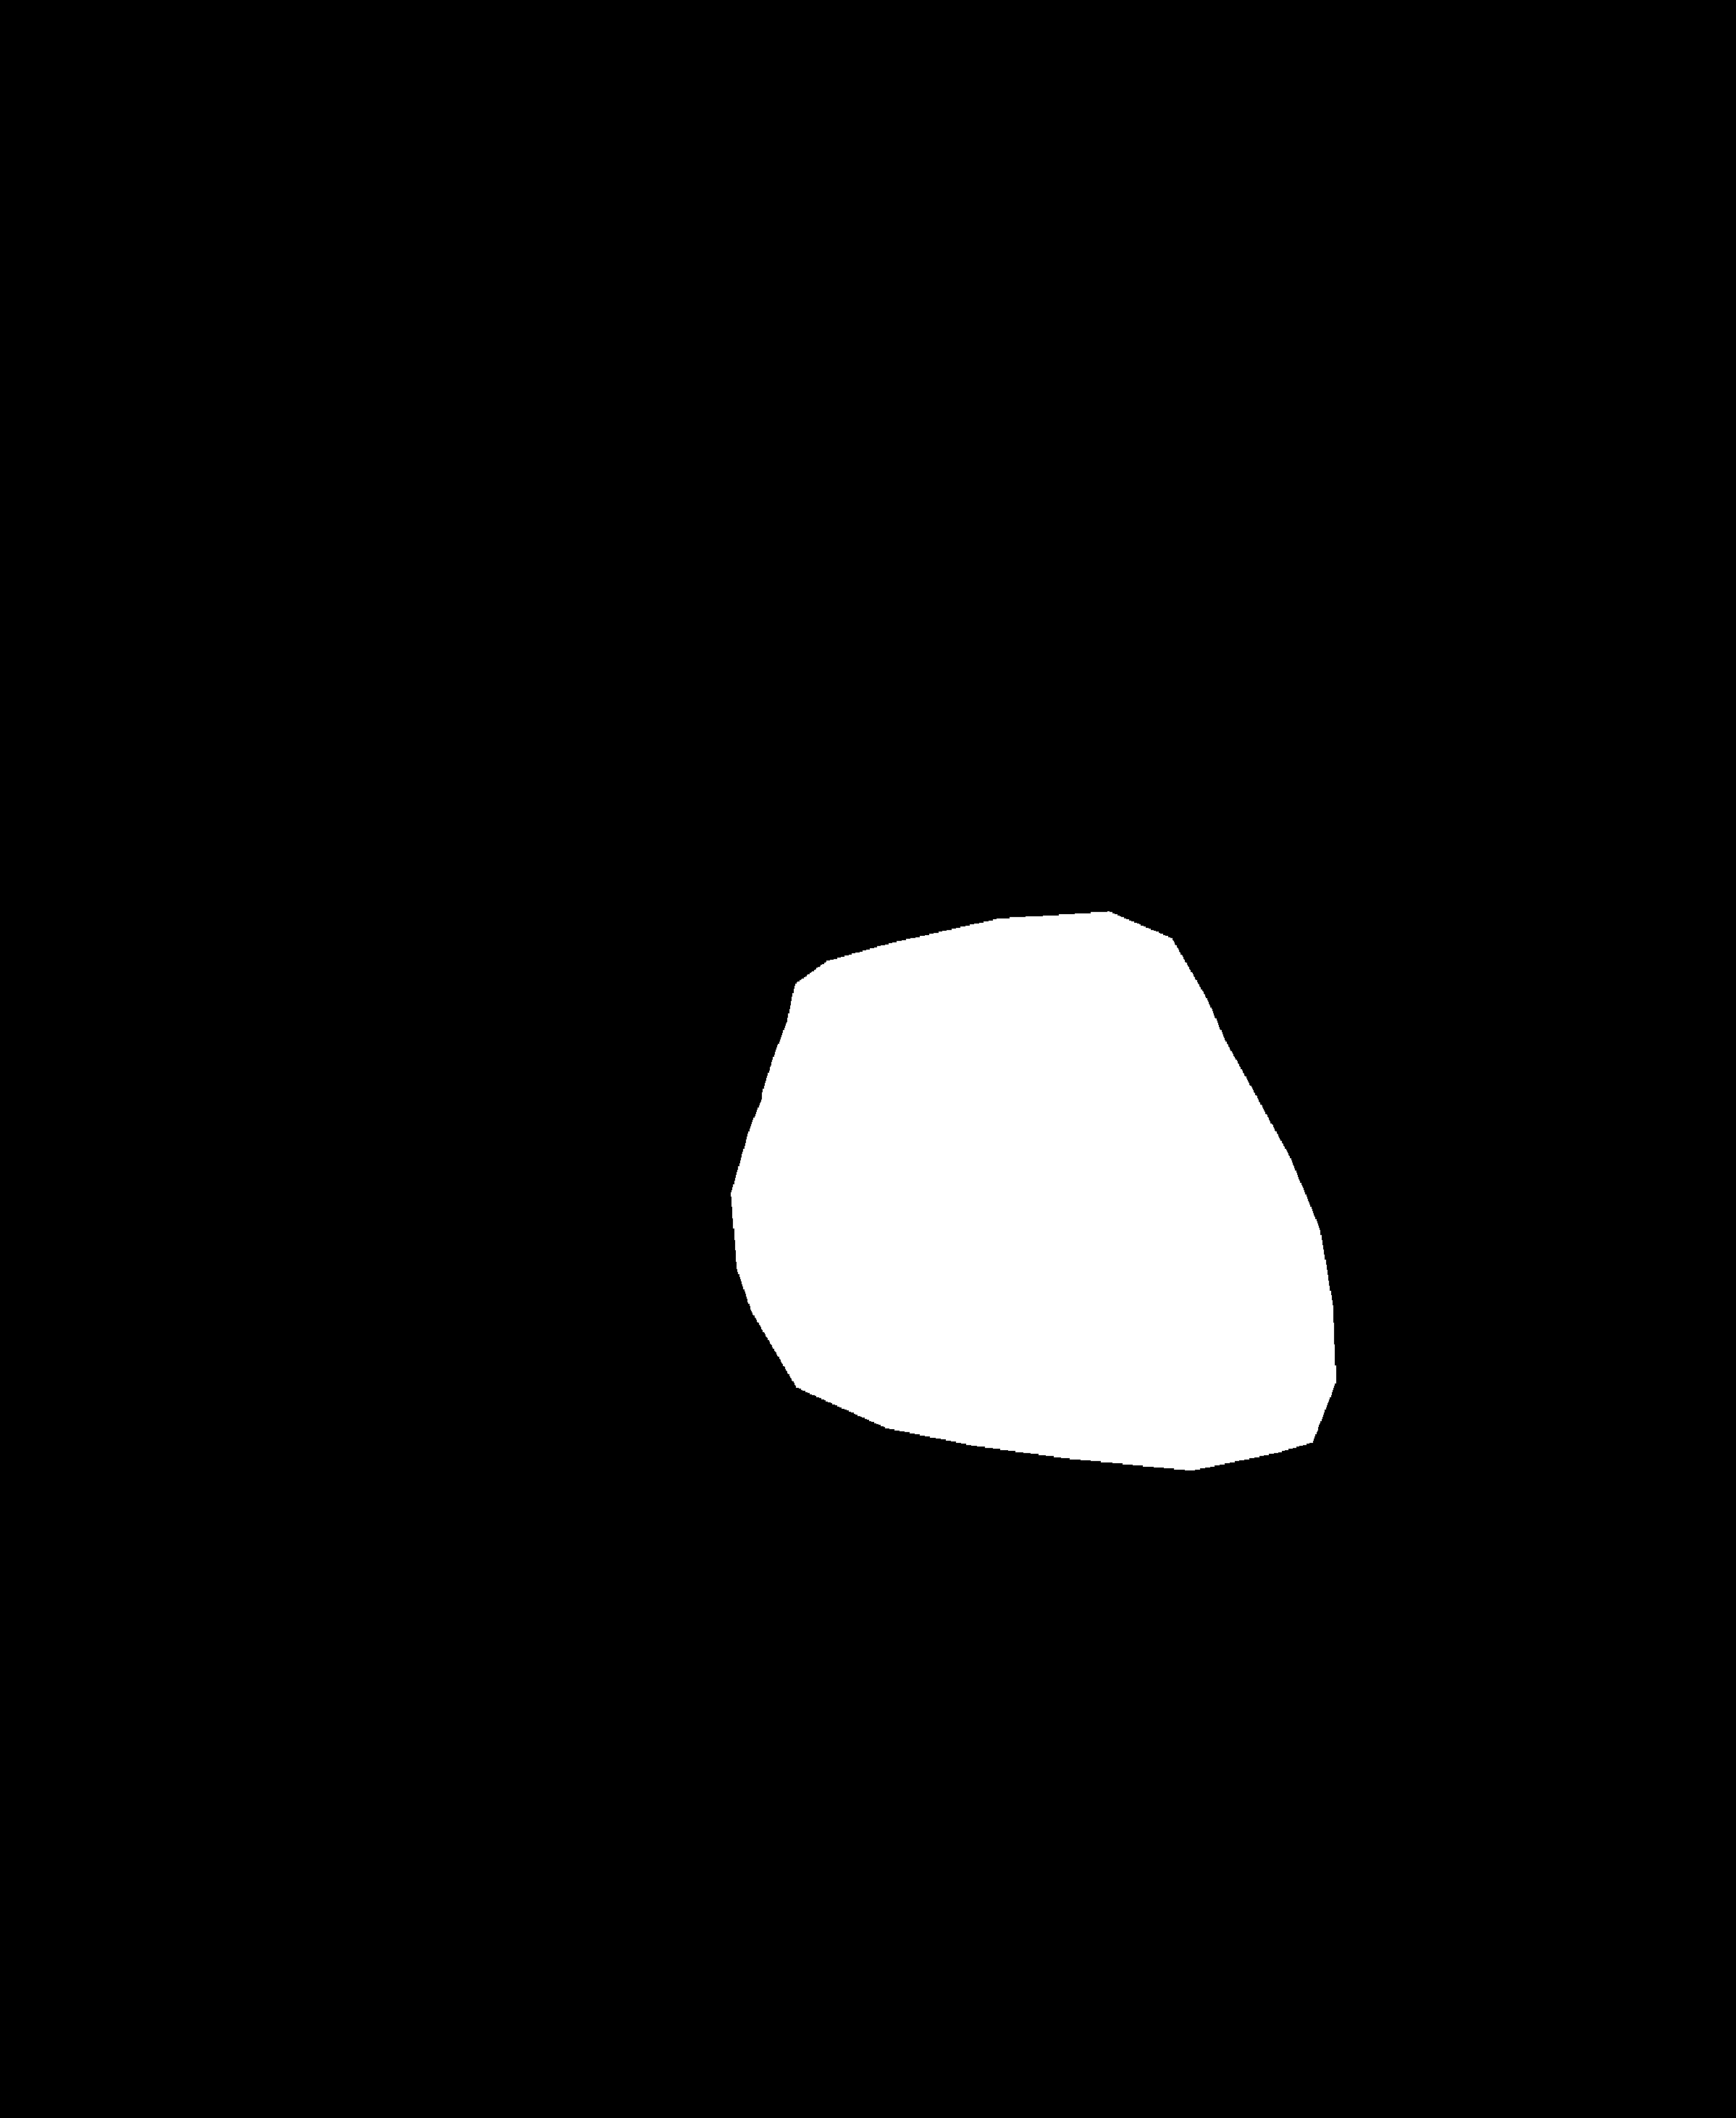heart: (732, 992, 1335, 1492)
left_lung: (199, 262, 841, 1676)
right_lung: (990, 255, 1562, 1712)
